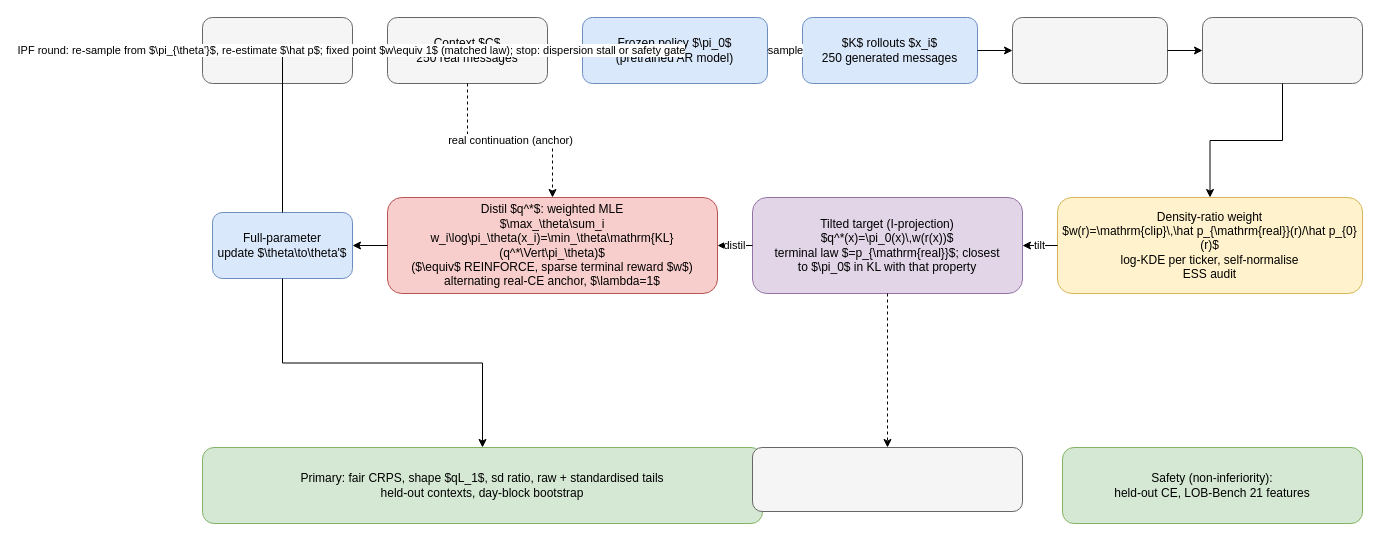
This 1380x541 diagram has some shape labels left out. The centre of each missing label's shape, as x and y in pixels:
"Computable ceiling: score the $w$-reweighted pool (sd $0.98$, $qL_1$ $0.040$)" belongs at (x=887, y=479).
"Matching engine $g$ (deterministic replay)" belongs at (x=1090, y=50).
"Real LOB stream (LOBSTER, event time)" belongs at (x=277, y=50).
"Terminal return $r(x)=\log m_{500}/m_{250}$" belongs at (x=1282, y=50).
